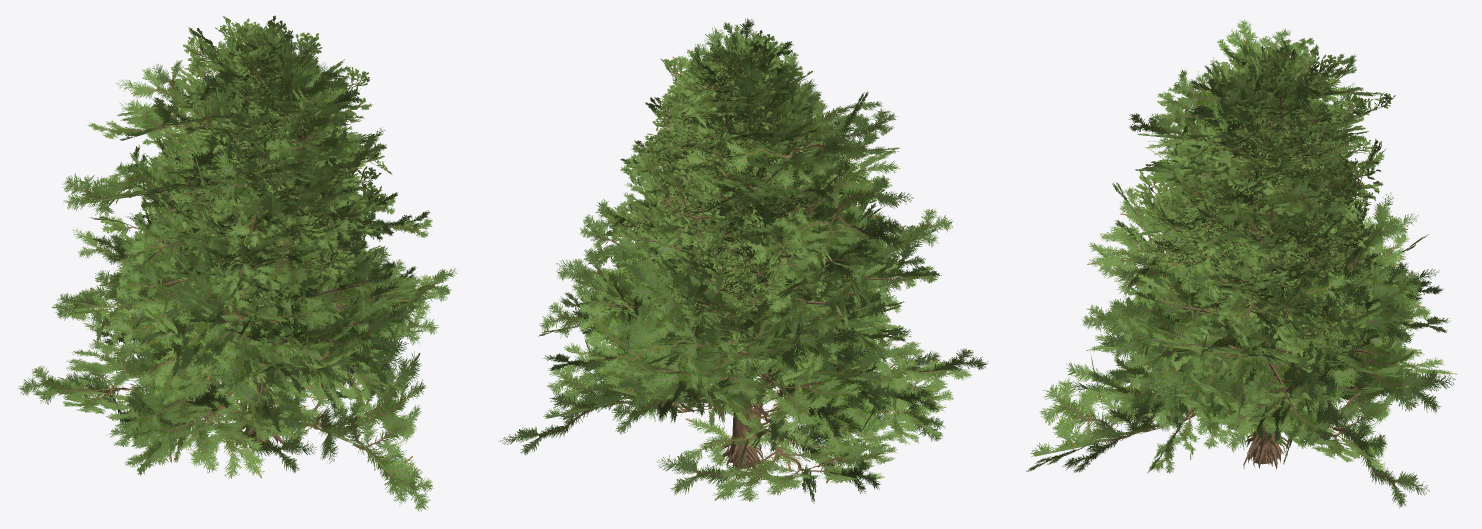
The model's file is pine.glb.
The picture shows the model from 3 angles, left to right: view 1: azimuth 30°, elevation 25°; view 2: azimuth 150°, elevation 25°; view 3: azimuth 270°, elevation 25°; orthographic projection. The views are drawn at different scales.
Parts seen in each view (by area): view 1: pine-sapling-3-foliage, pine-small-2-foliage, pine-small-1-foliage, pine-sapling-2-foliage, pine-sapling-1-foliage, pine-small-3-foliage, pine-big-2-foliage, pine-medium-3-foliage, pine-large-2-foliage, pine-medium-1-foliage, pine-large-1-foliage, pine-medium-2-foliage (+3 smaller); view 2: pine-sapling-1-foliage, pine-small-2-foliage, pine-sapling-2-foliage, pine-sapling-3-foliage, pine-big-2-foliage, pine-small-3-foliage, pine-small-1-foliage, pine-medium-2-foliage, pine-big-1-foliage, pine-large-2-foliage, pine-medium-3-foliage, pine-large-1-foliage (+4 smaller); view 3: pine-sapling-3-foliage, pine-sapling-1-foliage, pine-small-2-foliage, pine-small-3-foliage, pine-sapling-2-foliage, pine-big-2-foliage, pine-small-1-foliage, pine-medium-2-foliage, pine-large-2-foliage, pine-big-1-foliage, pine-medium-1-foliage, pine-large-3-foliage (+4 smaller).
Part boxes in pixels (x1,y1,x2,y2): pine-sapling-3-foliage: (110, 59, 458, 511); pine-small-2-foliage: (62, 27, 432, 436); pine-small-1-foliage: (90, 41, 395, 405); pine-sapling-2-foliage: (73, 39, 438, 479); pine-sapling-1-foliage: (17, 35, 449, 442); pine-small-3-foliage: (108, 33, 415, 427); pine-big-2-foliage: (161, 16, 387, 304); pine-medium-3-foliage: (166, 32, 355, 289); pine-large-2-foliage: (159, 26, 392, 280); pine-medium-1-foliage: (202, 46, 375, 260); pine-large-1-foliage: (134, 35, 356, 276); pine-medium-2-foliage: (149, 15, 366, 279); pine-sapling-1-foliage: (499, 63, 925, 503); pine-small-2-foliage: (539, 28, 913, 413); pine-sapling-2-foliage: (543, 27, 945, 468); pine-sapling-3-foliage: (579, 18, 988, 436); pine-big-2-foliage: (600, 50, 868, 284); pine-small-3-foliage: (579, 37, 887, 407); pine-small-1-foliage: (595, 22, 941, 412); pine-medium-2-foliage: (625, 47, 847, 352); pine-big-1-foliage: (600, 50, 817, 393); pine-large-2-foliage: (606, 54, 835, 329); pine-medium-3-foliage: (654, 30, 888, 375); pine-large-1-foliage: (610, 46, 848, 321); pine-sapling-3-foliage: (1026, 39, 1442, 472); pine-sapling-1-foliage: (1142, 42, 1457, 508); pine-small-2-foliage: (1104, 20, 1384, 446); pine-small-3-foliage: (1115, 65, 1413, 473); pine-sapling-2-foliage: (1092, 70, 1450, 448); pine-big-2-foliage: (1163, 48, 1395, 341); pine-small-1-foliage: (1090, 63, 1415, 413); pine-medium-2-foliage: (1157, 47, 1382, 322); pine-large-2-foliage: (1134, 45, 1364, 361); pine-big-1-foliage: (1154, 45, 1374, 289); pine-medium-1-foliage: (1171, 45, 1348, 358); pine-large-3-foliage: (1132, 54, 1371, 298).
Bounding box in the file's own units: 0.9665 × 1 × 0.9818.
Materials: 2 (2 with a texture image).
